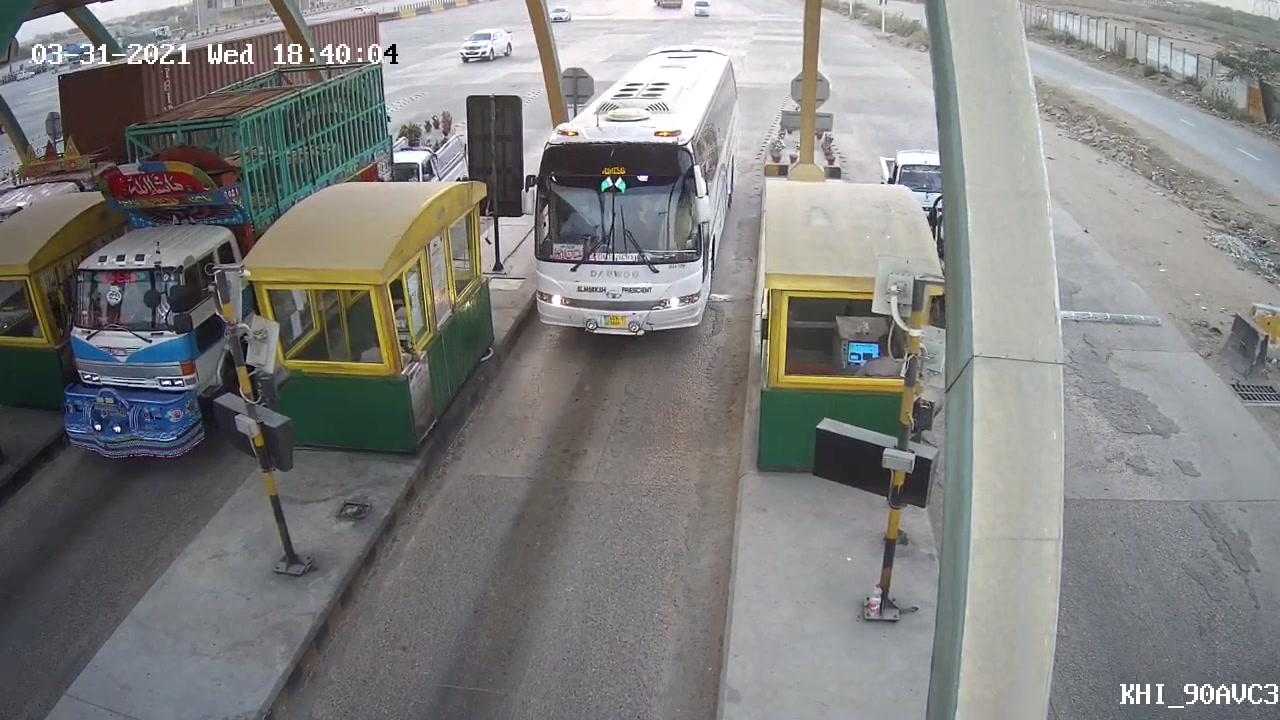F4: (515, 42, 752, 361)
